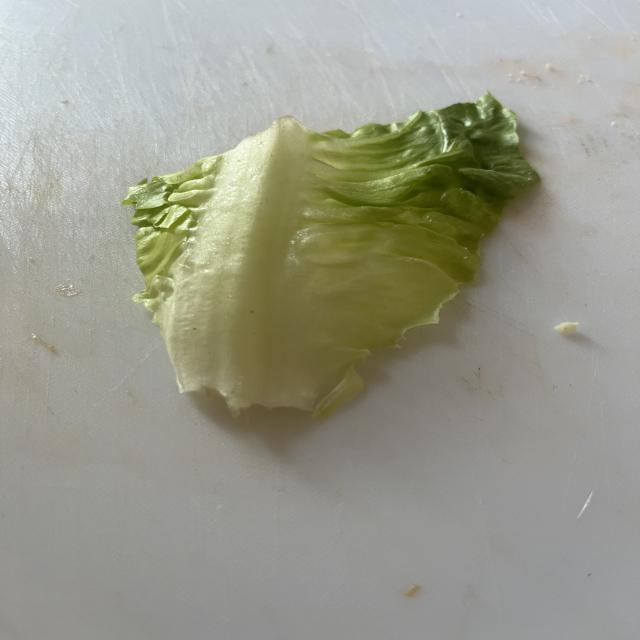lettuce: (122, 93, 539, 416)
